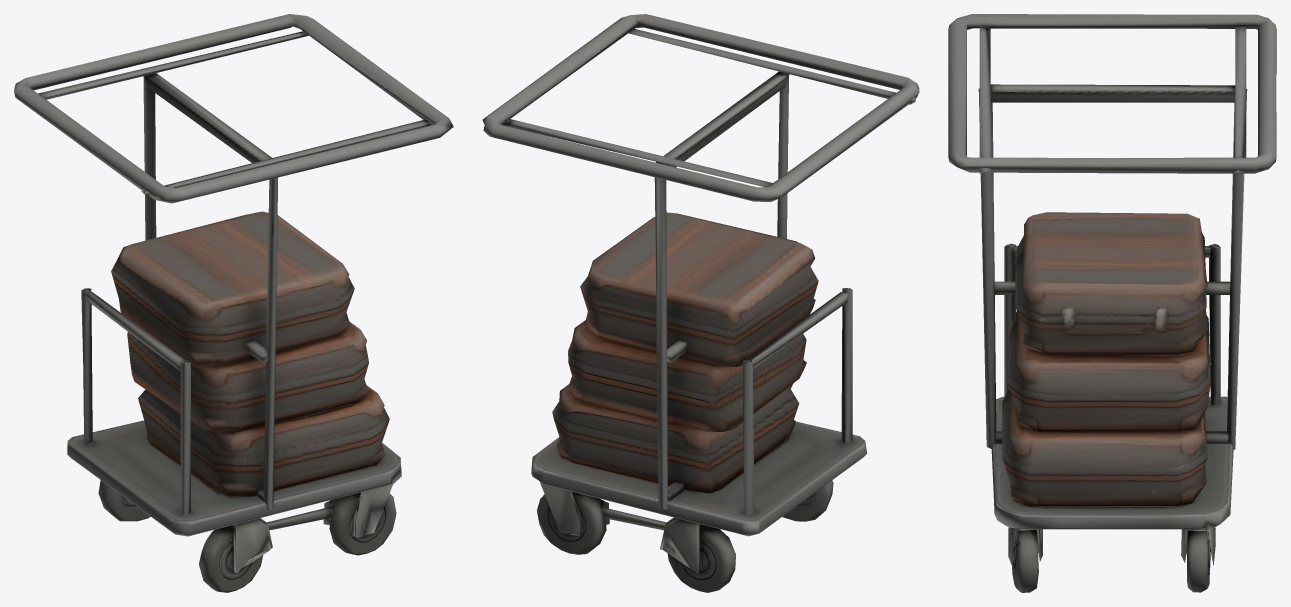
The model's file is baggage-cart.glb.
3 renders of one model, left to right at view 1: azimuth 30°, elevation 25°; view 2: azimuth 150°, elevation 25°; view 3: azimuth 270°, elevation 25°, orthographic. The views are drawn at different scales.
Visible parts, largest first — view 1: tripo_node_8b1c119a-5c4f-4578-a6d1-051d9134ce36; view 2: tripo_node_8b1c119a-5c4f-4578-a6d1-051d9134ce36; view 3: tripo_node_8b1c119a-5c4f-4578-a6d1-051d9134ce36.
Part boxes in pixels (x1,y1,x2,y2): tripo_node_8b1c119a-5c4f-4578-a6d1-051d9134ce36: (14, 14, 453, 592); tripo_node_8b1c119a-5c4f-4578-a6d1-051d9134ce36: (482, 14, 919, 592); tripo_node_8b1c119a-5c4f-4578-a6d1-051d9134ce36: (948, 14, 1276, 592).
Bounding box in the file's own units: 0.7129 × 0.998 × 0.6504.
Materials: 1 (1 with a texture image).
